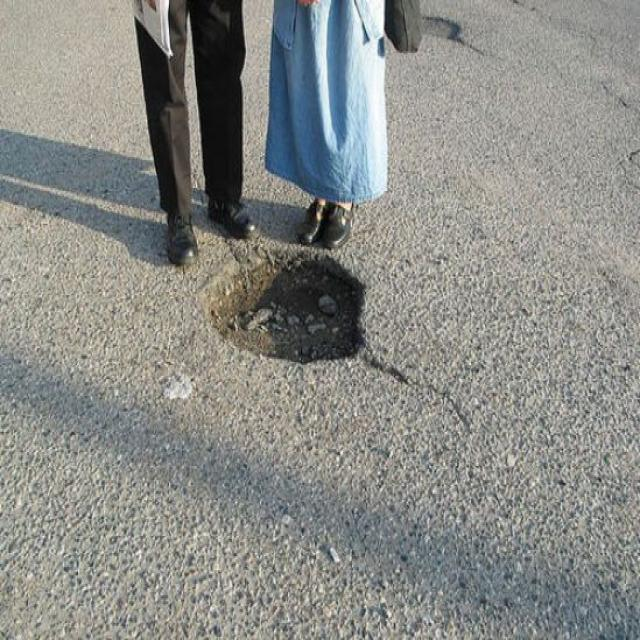pothole: (200, 240, 374, 364)
